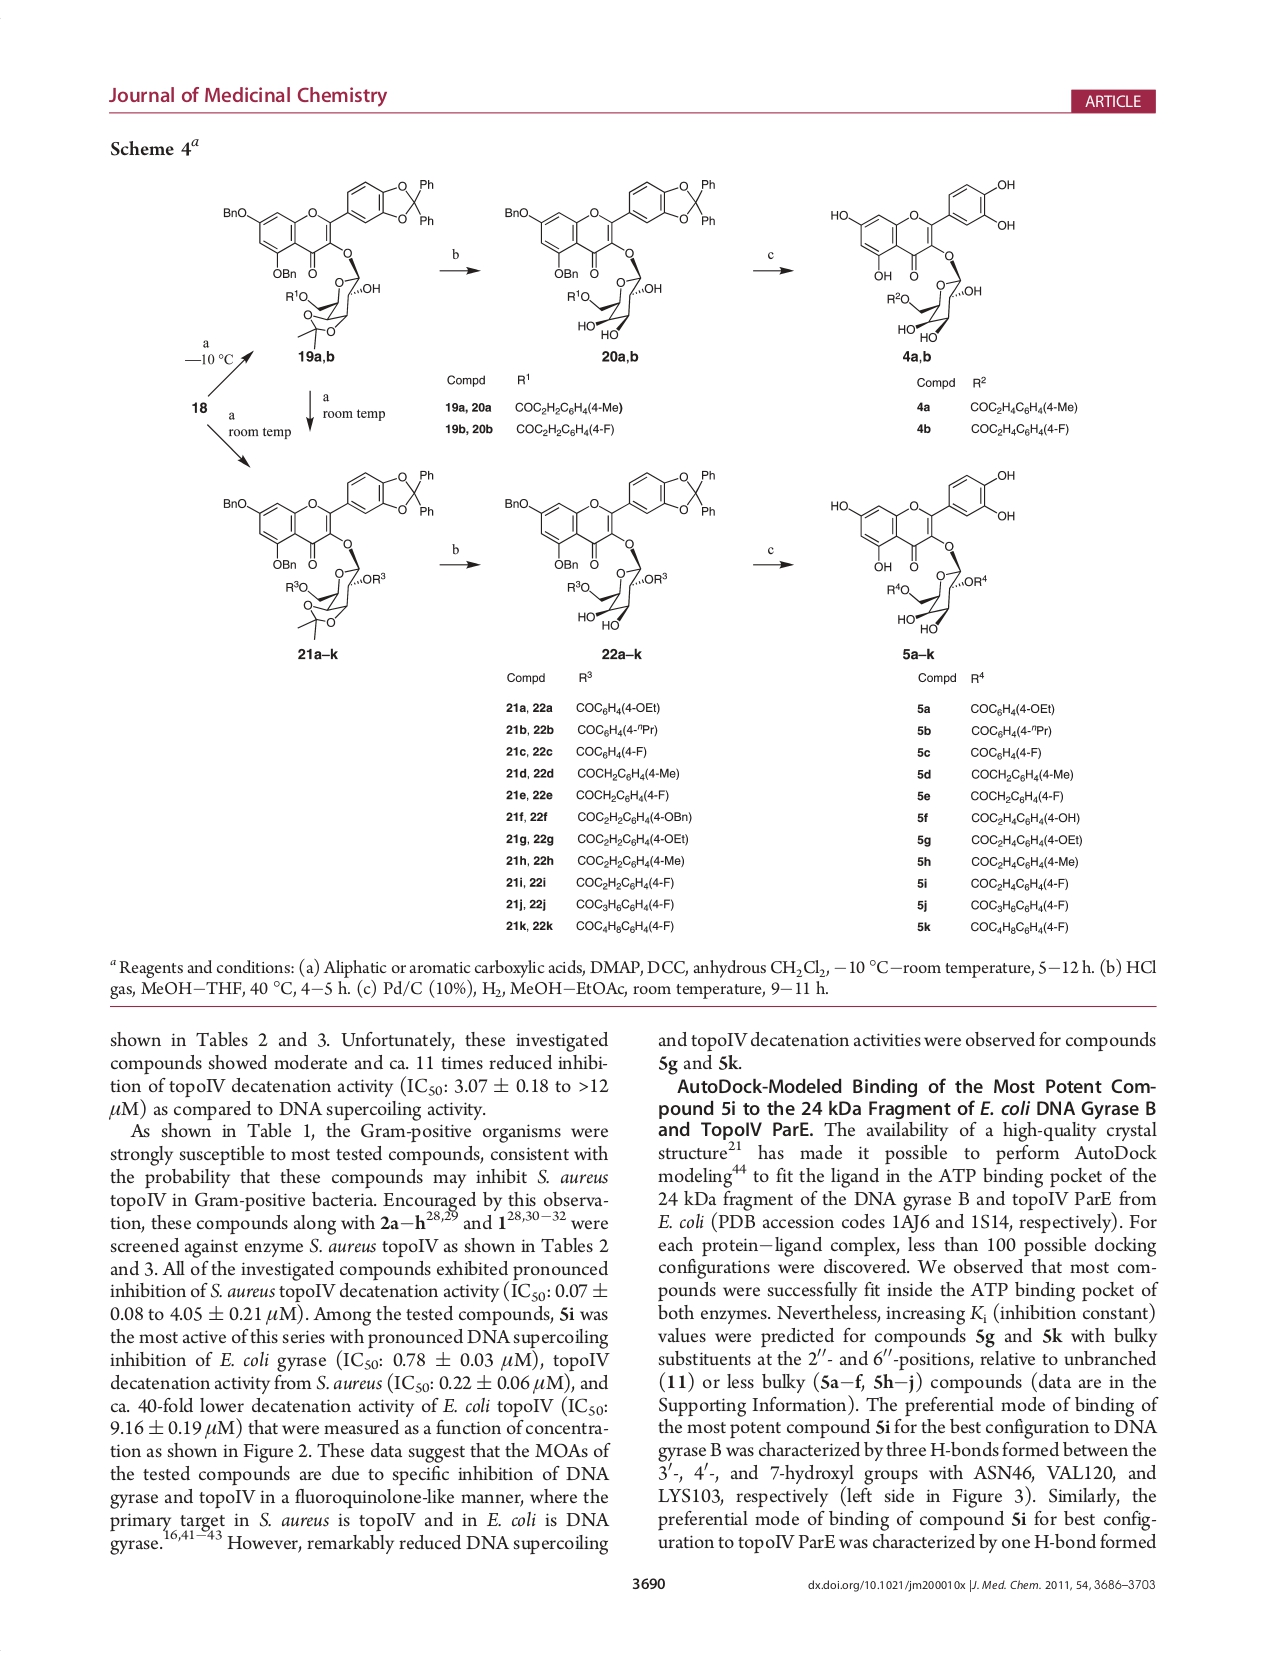exist_molecular: (219, 467, 436, 644), (499, 174, 723, 343), (221, 176, 438, 348), (501, 468, 717, 634), (826, 174, 1019, 346), (827, 467, 1017, 636)
